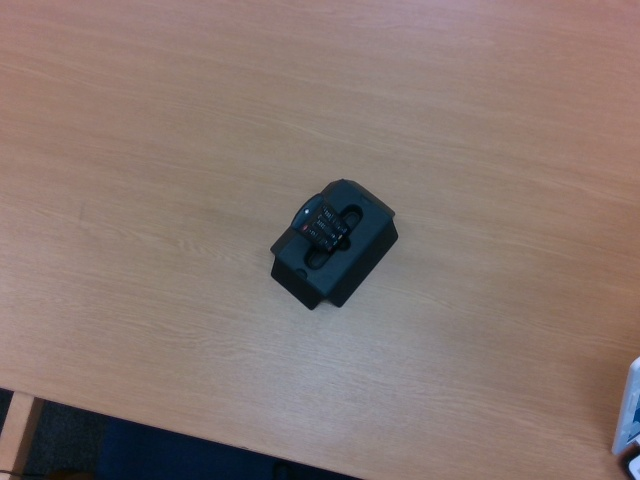remote: (290, 193, 352, 254)
